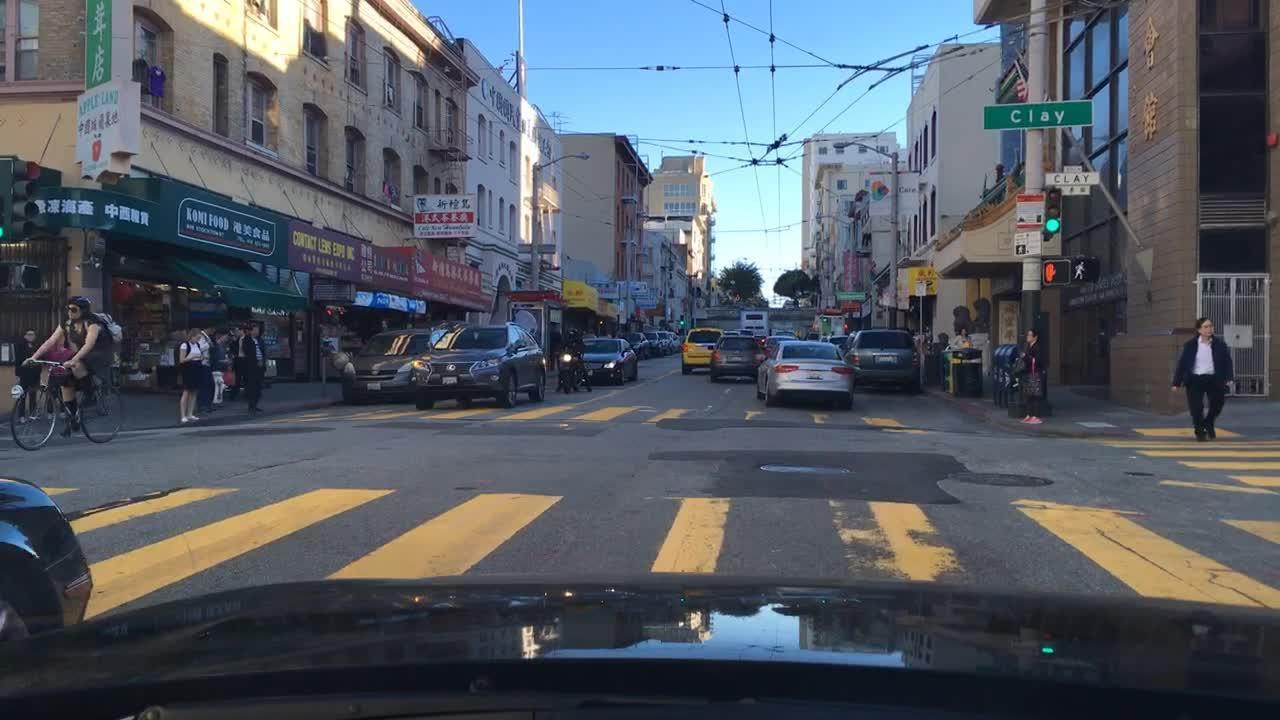chevrolet: (370, 370, 380, 375)
lexus: (444, 361, 458, 373)
